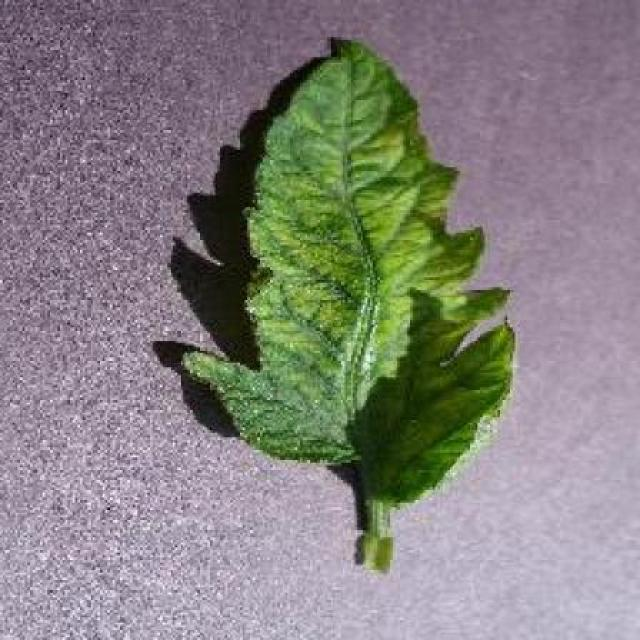Mosaic Virus: (178, 40, 518, 507)
